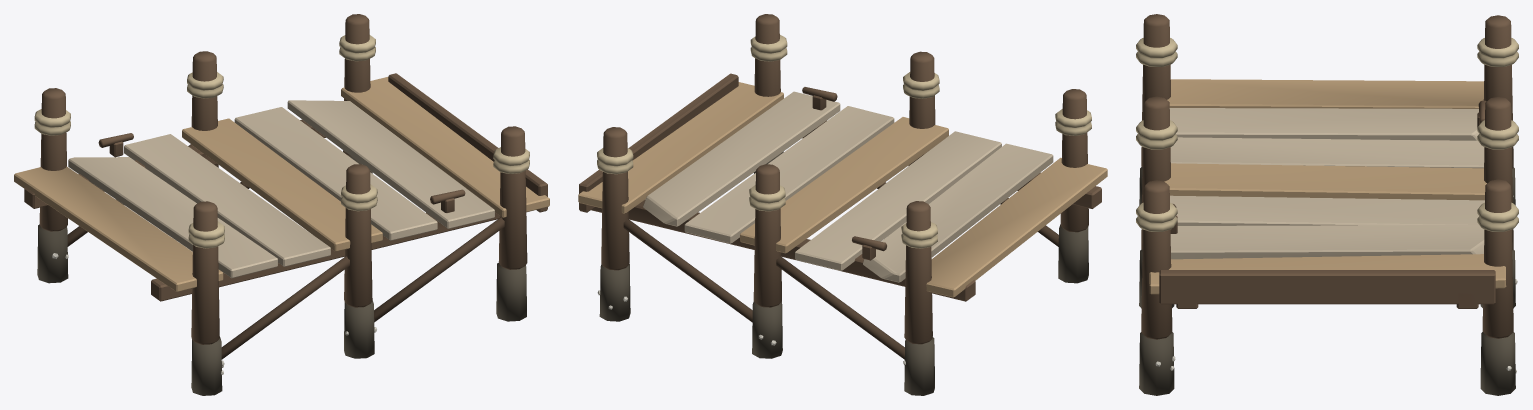
The model's file is dock_end.glb.
The picture shows the model from 3 angles, left to right: view 1: azimuth 30°, elevation 25°; view 2: azimuth 150°, elevation 25°; view 3: azimuth 270°, elevation 25°; orthographic projection. The views are drawn at different scales.
Parts seen in each view (by area): view 1: dock_end; view 2: dock_end; view 3: dock_end.
Boxes of the visible parts, x1,y1,x2,y2 form: dock_end: [14, 14, 549, 395]; dock_end: [578, 14, 1107, 395]; dock_end: [1136, 14, 1518, 395].
Bounding box in the file's own units: 4 × 1.85 × 3.14.
